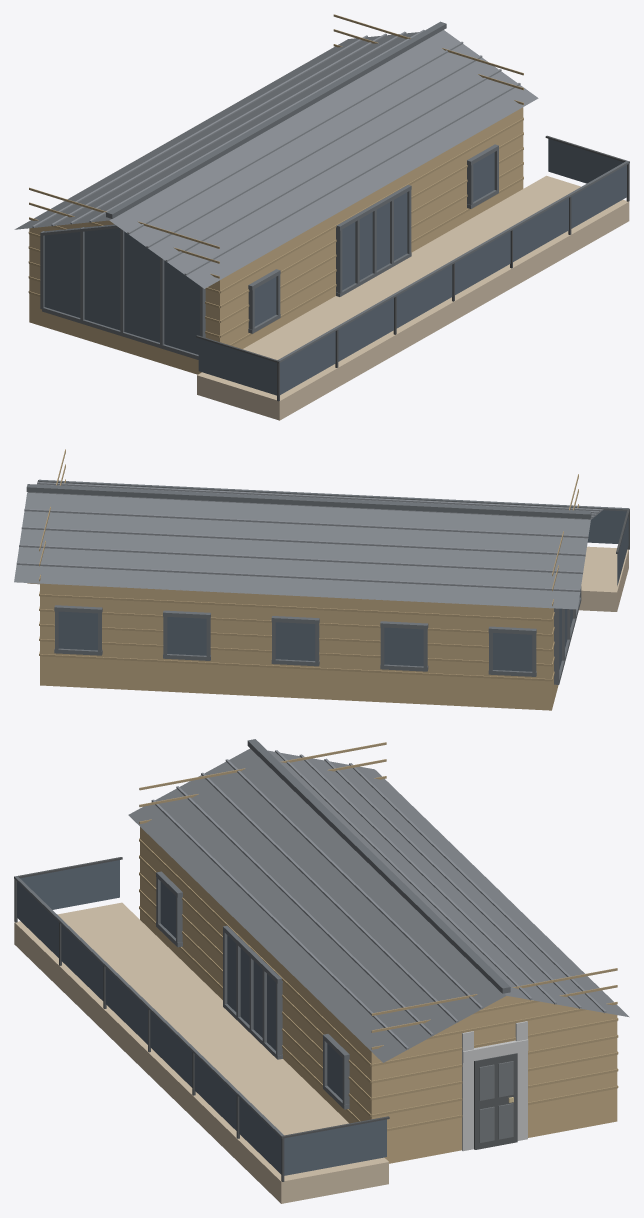
3 renders of one model, top to bottom at view 1: azimuth 30°, elevation 25°; view 2: azimuth 150°, elevation 25°; view 3: azimuth 270°, elevation 25°, orthographic. The views are drawn at different scales.
Visible parts, largest first — view 1: slate, larch, door_wood, slate_dk, window_glass_015, slate_lt, door_wood_p, window_glass_007, window_glass_008, window_glass_003, window_glass_001, window_glass_002 (+10 smaller); view 2: slate, door_wood, slate_dk, slate_lt, door_wood_p, larch, window_glass_018, window_glass_017, window_glass_016, window_glass_019, window_glass_020, window_glass_001 (+1 smaller); view 3: slate, door_wood, larch, slate_dk, slate_lt, door_wood_p, window_glass_008, stone_band, window_glass_007, door_dark_p, door_dark, pipe (+11 smaller).
Part boxes in pixels (x1=…): slate: x1=14, y1=30, x2=538, y2=288; larch: x1=197, y1=175, x2=629, y2=420; door_wood: x1=29, y1=107, x2=523, y2=374; slate_dk: x1=40, y1=21, x2=629, y2=362; window_glass_015: x1=44, y1=228, x2=199, y2=354; slate_lt: x1=32, y1=29, x2=520, y2=275; door_wood_p: x1=28, y1=14, x2=523, y2=345; window_glass_007: x1=198, y1=338, x2=276, y2=395; window_glass_008: x1=548, y1=139, x2=623, y2=183; window_glass_003: x1=396, y1=265, x2=452, y2=328; window_glass_001: x1=280, y1=331, x2=335, y2=394; window_glass_002: x1=338, y1=298, x2=393, y2=361; slate: x1=14, y1=482, x2=603, y2=609; door_wood: x1=40, y1=583, x2=558, y2=710; slate_dk: x1=26, y1=479, x2=628, y2=684; slate_lt: x1=16, y1=482, x2=601, y2=591; door_wood_p: x1=39, y1=449, x2=578, y2=681; larch: x1=27, y1=546, x2=628, y2=611; window_glass_018: x1=275, y1=622, x2=315, y2=660; window_glass_017: x1=167, y1=617, x2=206, y2=655; window_glass_016: x1=58, y1=611, x2=97, y2=650; window_glass_019: x1=384, y1=627, x2=423, y2=666; window_glass_020: x1=493, y1=633, x2=532, y2=671; window_glass_001: x1=587, y1=510, x2=626, y2=543; slate: x1=128, y1=748, x2=629, y2=1062; door_wood: x1=140, y1=827, x2=617, y2=1163; larch: x1=14, y1=902, x2=388, y2=1203; slate_dk: x1=14, y1=739, x2=510, y2=1137; slate_lt: x1=151, y1=750, x2=606, y2=1049; door_wood_p: x1=139, y1=742, x2=618, y2=1131; window_glass_008: x1=284, y1=1119, x2=386, y2=1175; stone_band: x1=462, y1=1021, x2=528, y2=1151; window_glass_007: x1=20, y1=860, x2=119, y2=909; door_dark_p: x1=479, y1=1061, x2=513, y2=1142; door_dark: x1=474, y1=1053, x2=517, y2=1149; pipe: x1=14, y1=857, x2=389, y2=1181.
Size of the model in its own units: 15.45 by 3.78 by 12.58.
